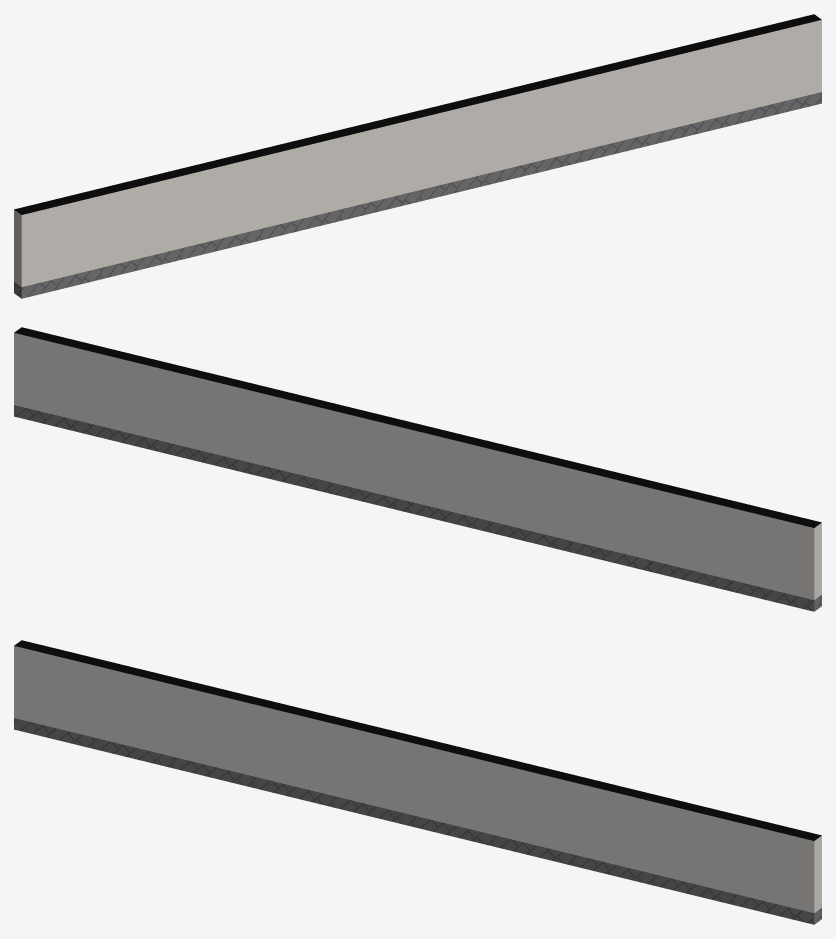
The model's file is lvl 2 long wall.fbx.
3 views of the same model, one above another, from view 1: azimuth 30°, elevation 25°; view 2: azimuth 150°, elevation 25°; view 3: azimuth 330°, elevation 25° (orthographic).
Visible parts, largest first — view 1: lvl 2 long wall; view 2: lvl 2 long wall; view 3: lvl 2 long wall.
Part boxes in pixels (box(x1,y1,x2,y2)): lvl 2 long wall: box(14, 14, 821, 298); lvl 2 long wall: box(14, 327, 821, 611); lvl 2 long wall: box(14, 640, 821, 924).
Size of the model in its own units: 60 by 6 by 1.
